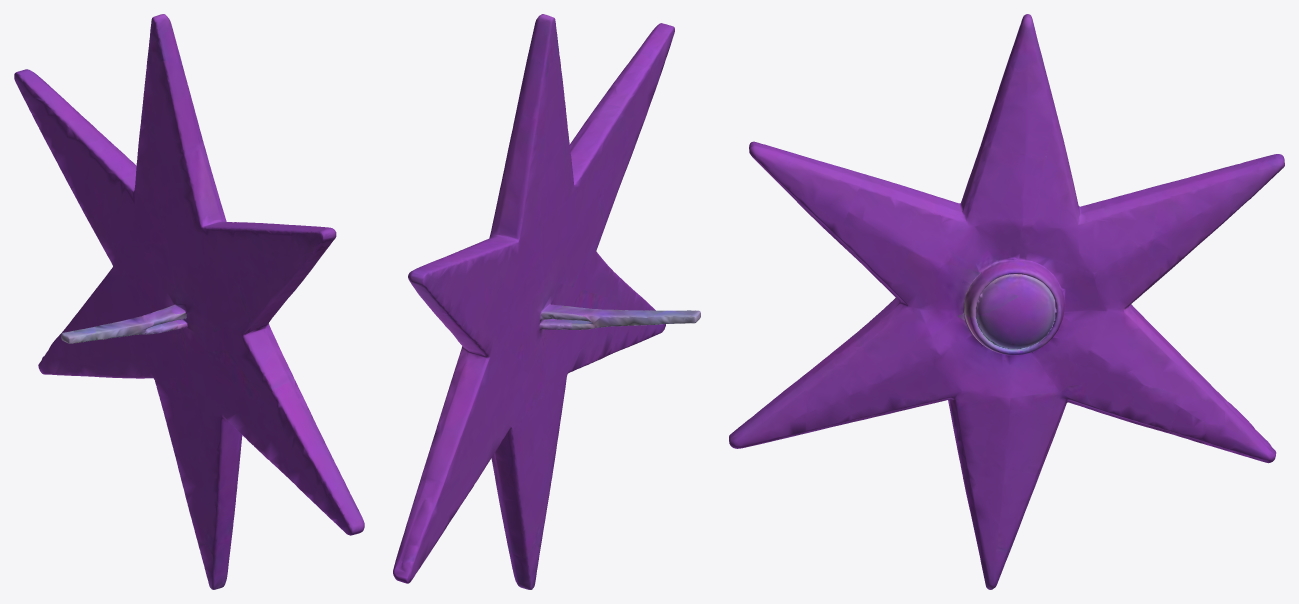
The model's file is powerup_spread.glb.
3 renders of one model, left to right at view 1: azimuth 30°, elevation 25°; view 2: azimuth 150°, elevation 25°; view 3: azimuth 270°, elevation 25°, orthographic. The views are drawn at different scales.
Parts seen in each view (by area): view 1: tripo_node_57216650-5568-4392-ac22-028ec721c6cd; view 2: tripo_node_57216650-5568-4392-ac22-028ec721c6cd; view 3: tripo_node_57216650-5568-4392-ac22-028ec721c6cd.
Part boxes in pixels (x1,y1,x2,y2): tripo_node_57216650-5568-4392-ac22-028ec721c6cd: (14,14,364,589); tripo_node_57216650-5568-4392-ac22-028ec721c6cd: (393,14,700,589); tripo_node_57216650-5568-4392-ac22-028ec721c6cd: (729,14,1284,589).
Bounding box in the file's own units: 0.3552 × 1 × 0.9094.
Materials: 1 (1 with a texture image).
